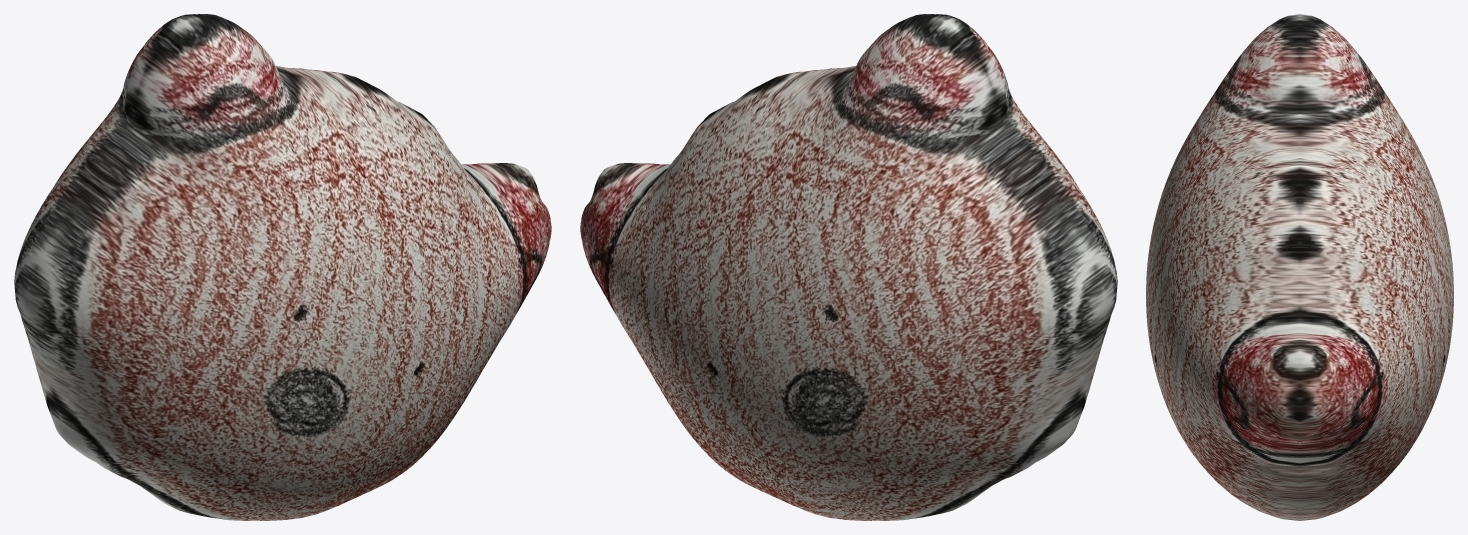
Rendered from 정은지_곰돌이.glb.
3 views of the same model, side by side, from view 1: azimuth 30°, elevation 25°; view 2: azimuth 150°, elevation 25°; view 3: azimuth 270°, elevation 25° (orthographic). The views are drawn at different scales.
Size of the model in its own units: 7.23 by 6.83 by 4.28.
1 material, 1 textured.
